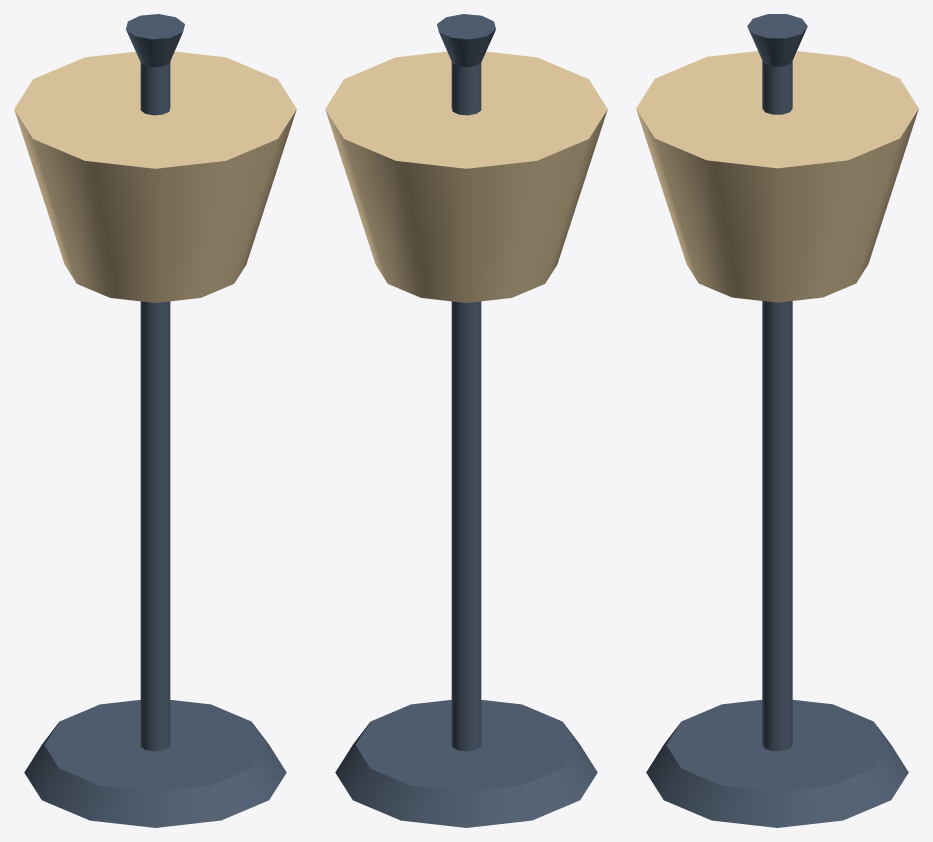
The model's file is lamp.glb.
3 renders of one model, left to right at view 1: azimuth 30°, elevation 25°; view 2: azimuth 150°, elevation 25°; view 3: azimuth 270°, elevation 25°, orthographic.
Size of the model in its own units: 0.56 by 1.63 by 0.56.
